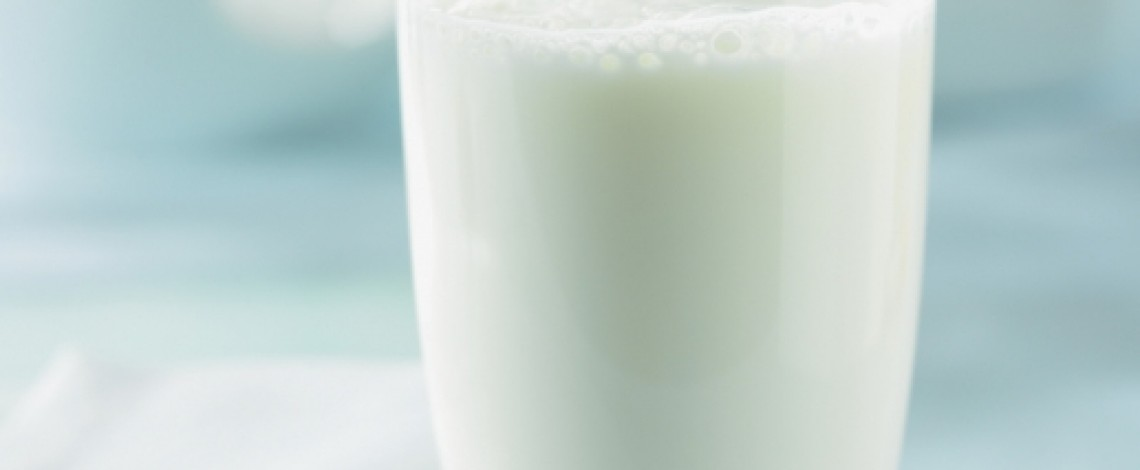glass of milk: (412, 18, 938, 464)
